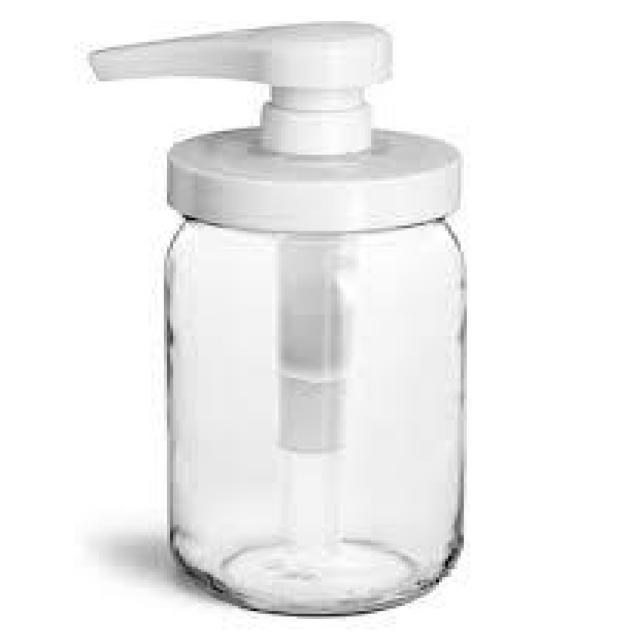Glass: (86, 18, 470, 620)
